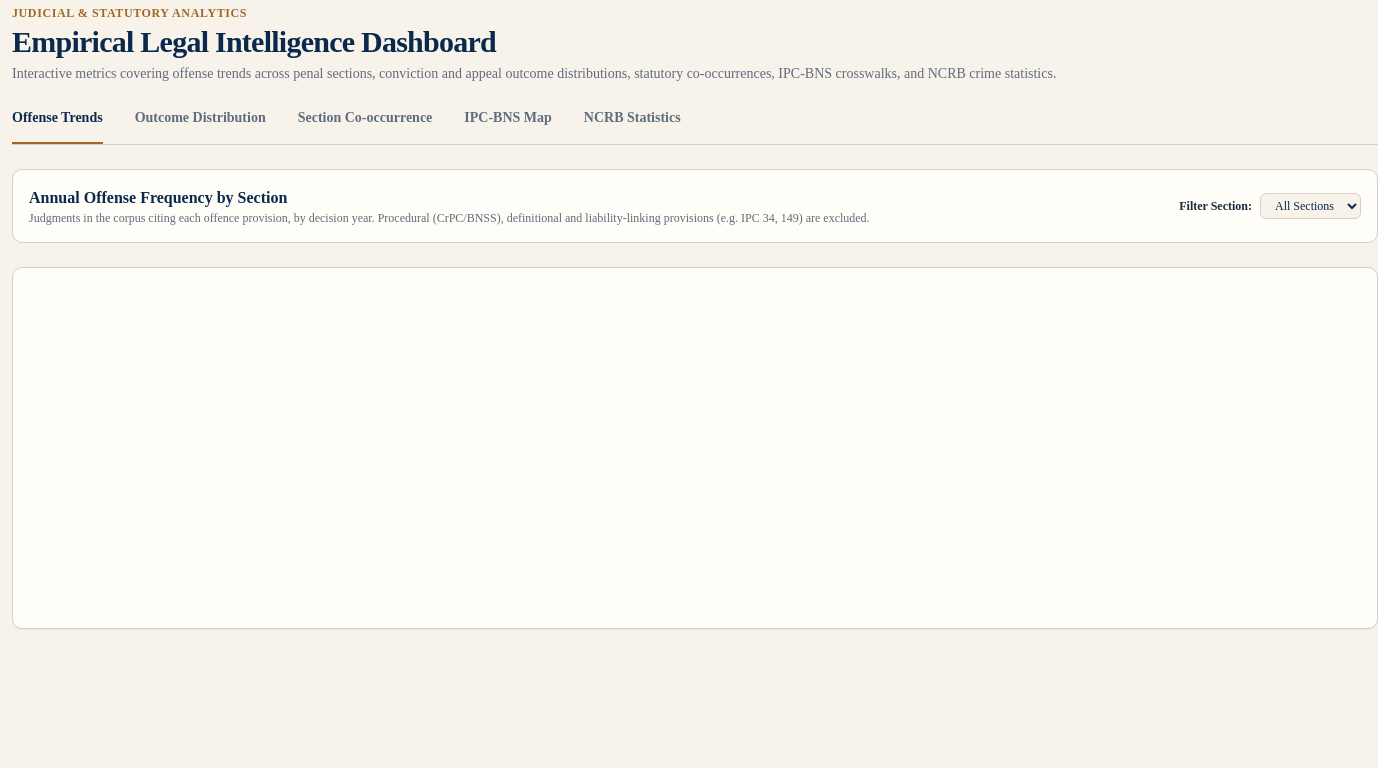
Scenario: Professional Analytics Dashboard › switches to IPC-BNS Map and filters rows by search term
The image size is (1378, 768).
Expected: the element with test id "tab-offense-trends" is shown, [12,169,1377,629]
Click the button "IPC-BNS Map". click: [508, 126]
box: [464,108,552,144]
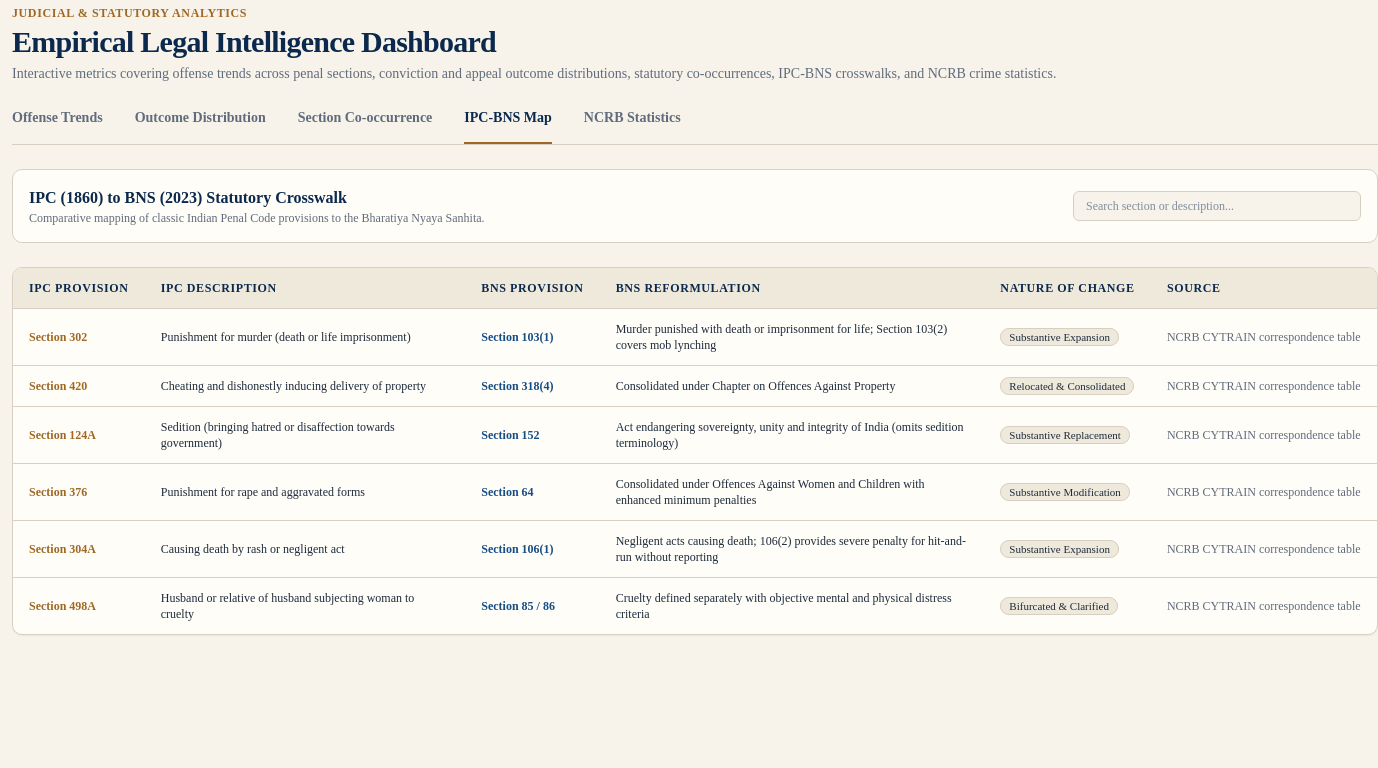
Expected: the element with test id "tab-ipc-bns" is shown
Expected: the heading "IPC (1860) to BNS (2023) Statutory Crosswalk" is shown, [29,189,347,206]
Expected: the text "Section 302" is shown, [13,308,145,366]
# Filter search
Type "sedition" into the search field with placeholder "Search section or description...". click: [1217, 206]
box: [1073,191,1361,221]
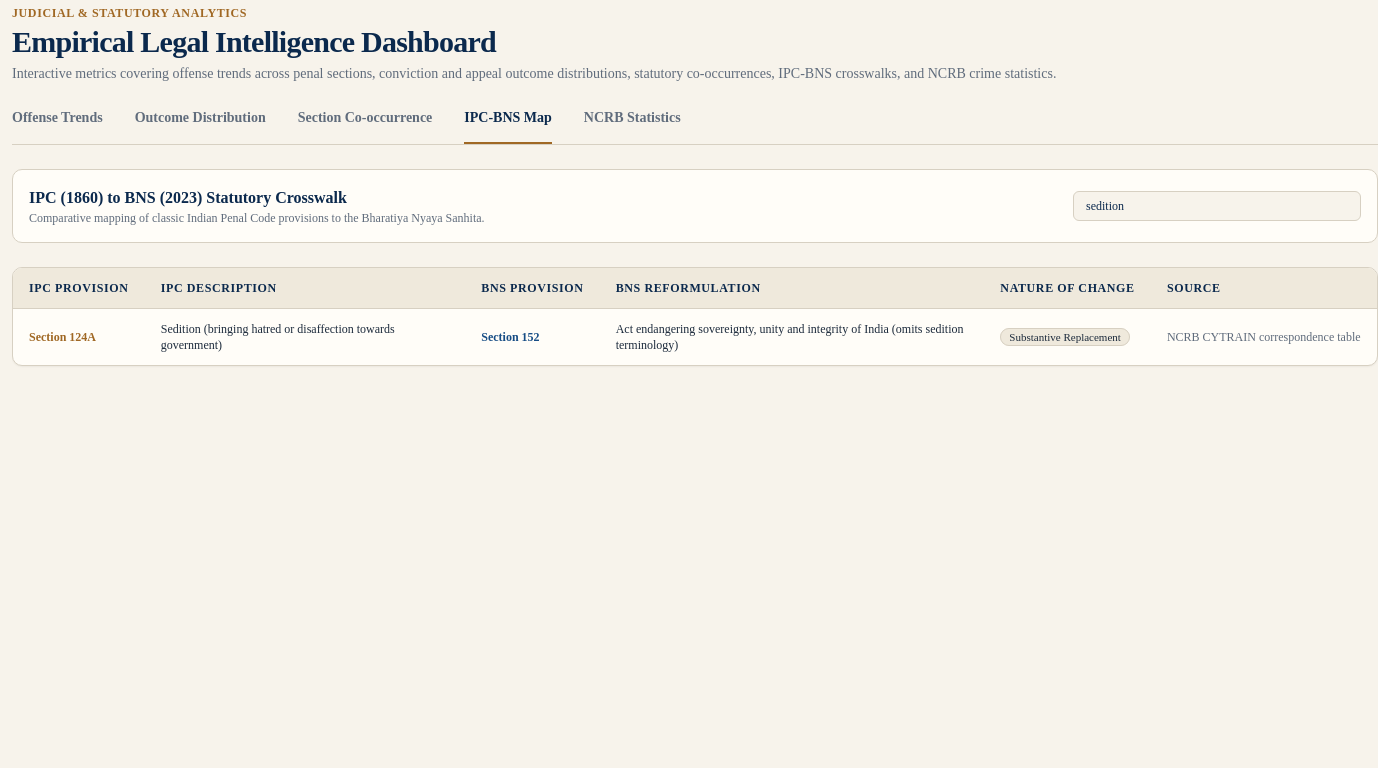
Expected: the text "Section 124A" is shown, [13,308,145,365]
Expected: the text "Section 302" is gone
